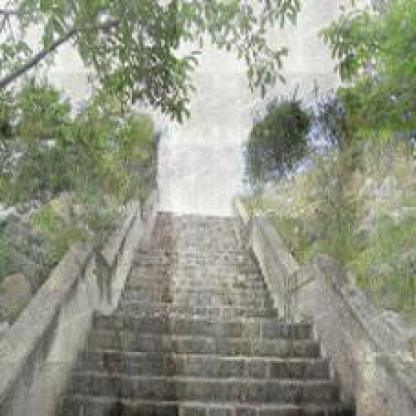stair_up: (76, 233, 346, 403)
